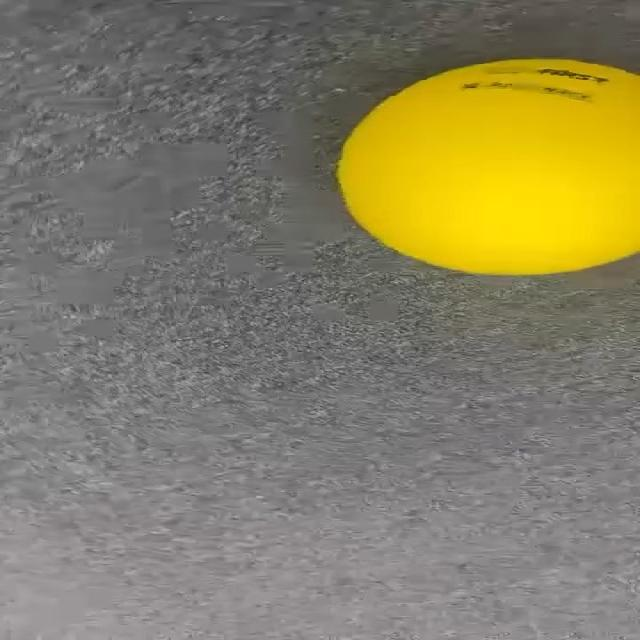Fuels: (342, 56, 640, 281)
